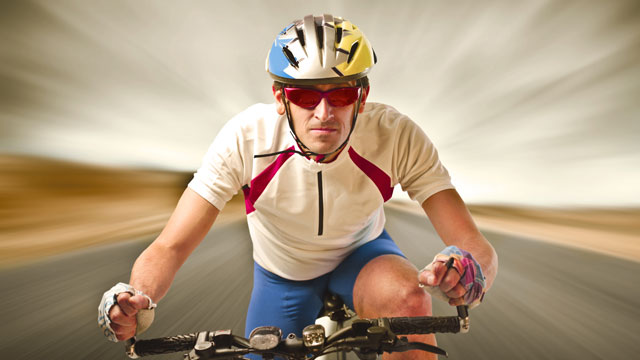helmet: (267, 14, 377, 156)
